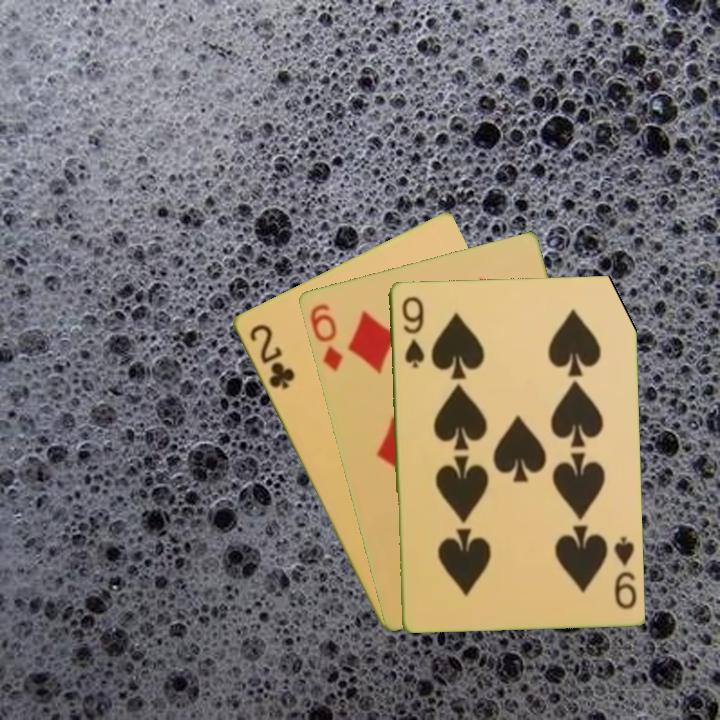2c: (245, 320, 298, 393)
6d: (306, 300, 345, 374)
9s: (397, 293, 427, 371), (610, 533, 639, 612)
